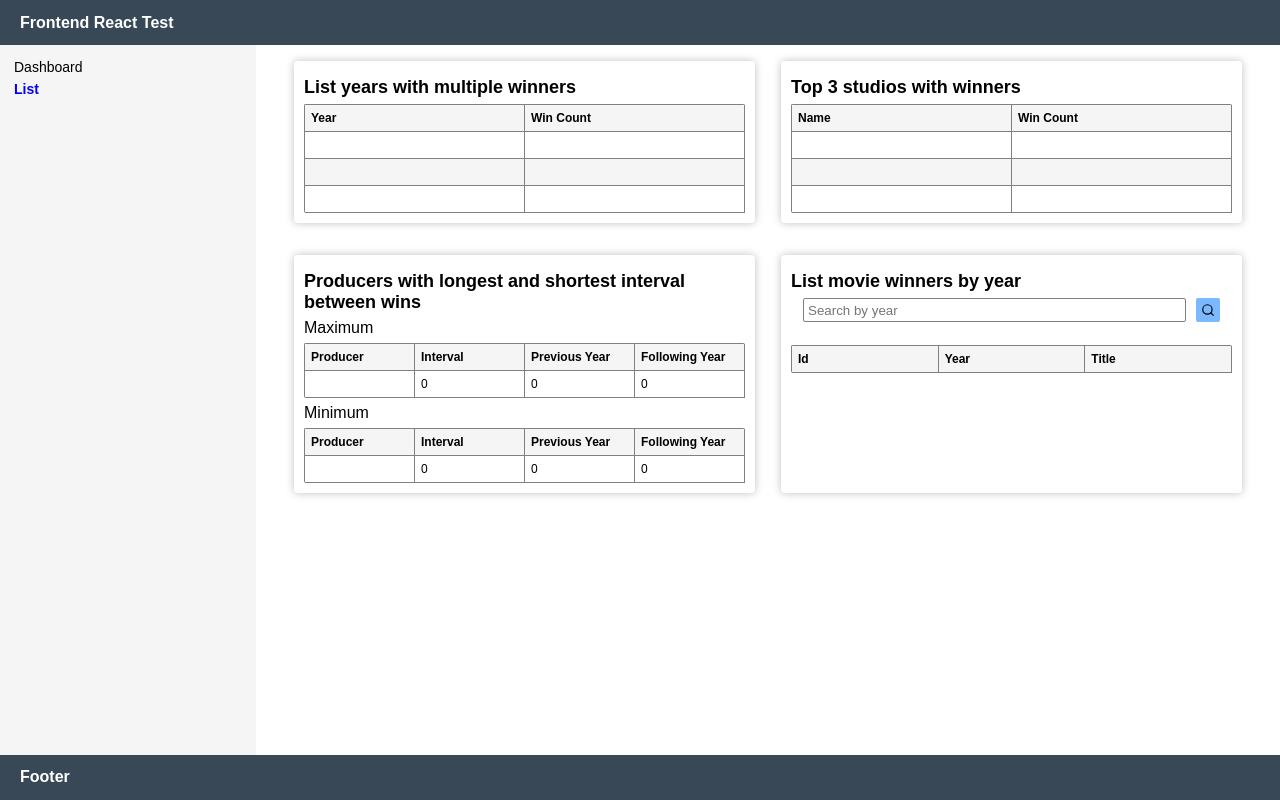
Test case: Testes relacionados a Rotas › Deve navegar da rota Dashboard para rota List
This screenshot has width=1280, height=800.
Step 1. Click the list item with test id "navigate-list" → x=26, y=90, box top-left (14, 82), bottom-right (39, 98)
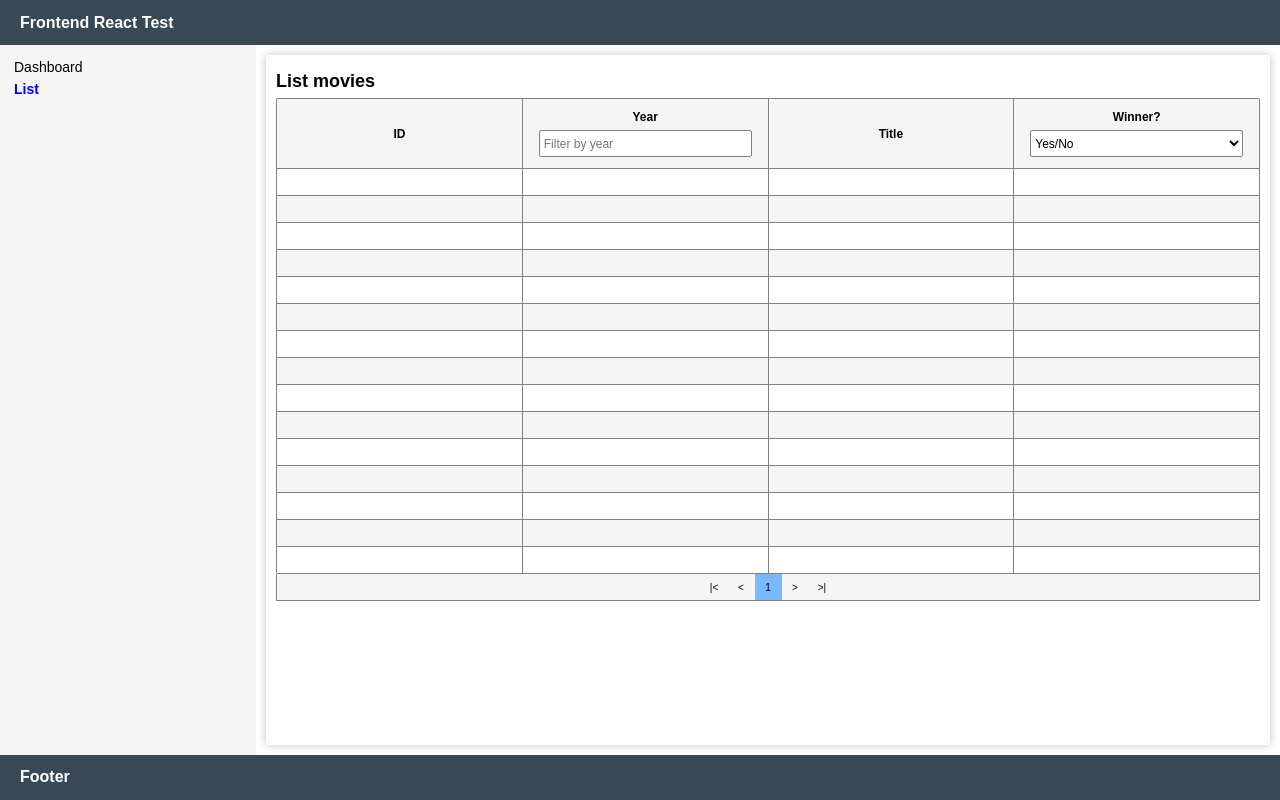
Expected: the heading "list movies" is shown, top-left (276, 72), bottom-right (375, 92)
